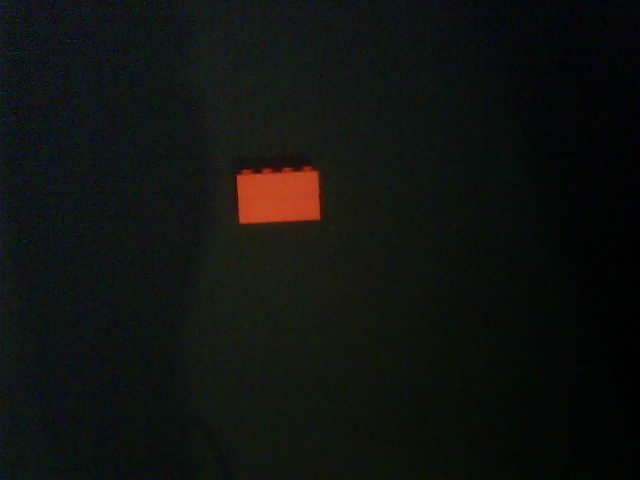lego: (234, 163, 323, 226)
